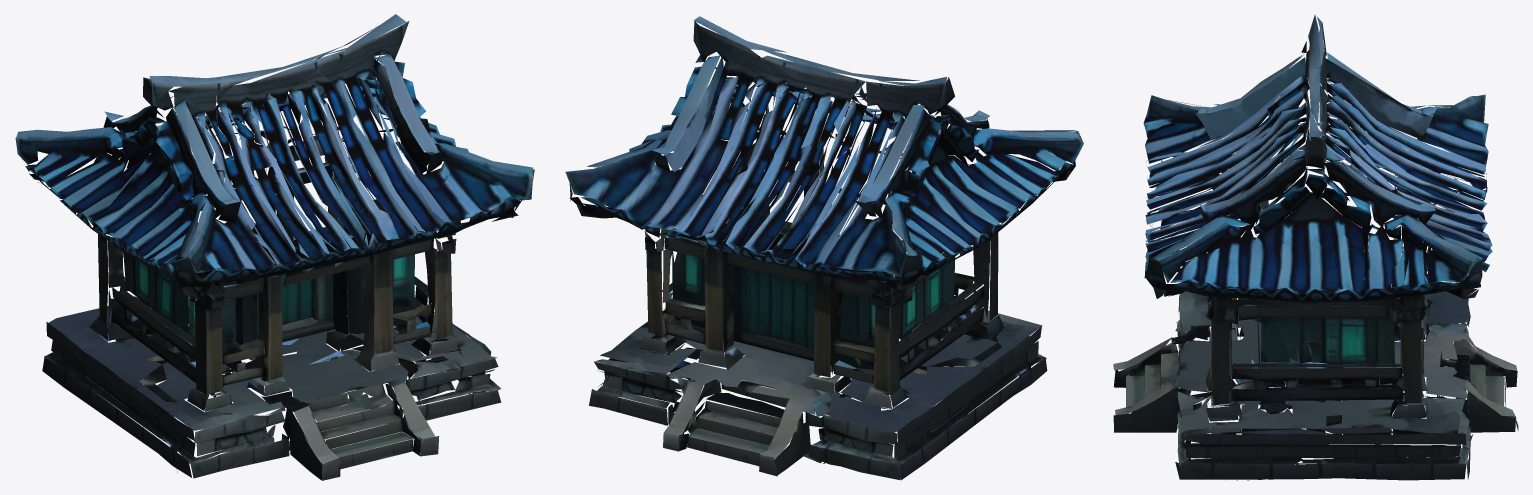
Rendered from shrine.glb.
The picture shows the model from 3 angles, left to right: view 1: azimuth 30°, elevation 25°; view 2: azimuth 150°, elevation 25°; view 3: azimuth 270°, elevation 25°; orthographic projection. The views are drawn at different scales.
Parts seen in each view (by area): view 1: Prop_shrine; view 2: Prop_shrine; view 3: Prop_shrine.
Part boxes in pixels (x1,y1,x2,y2): Prop_shrine: (15, 14, 534, 480); Prop_shrine: (565, 16, 1083, 480); Prop_shrine: (1113, 15, 1518, 480).
Size of the model in its own units: 4.65 by 4.33 by 4.66.
1 material, 1 textured.
